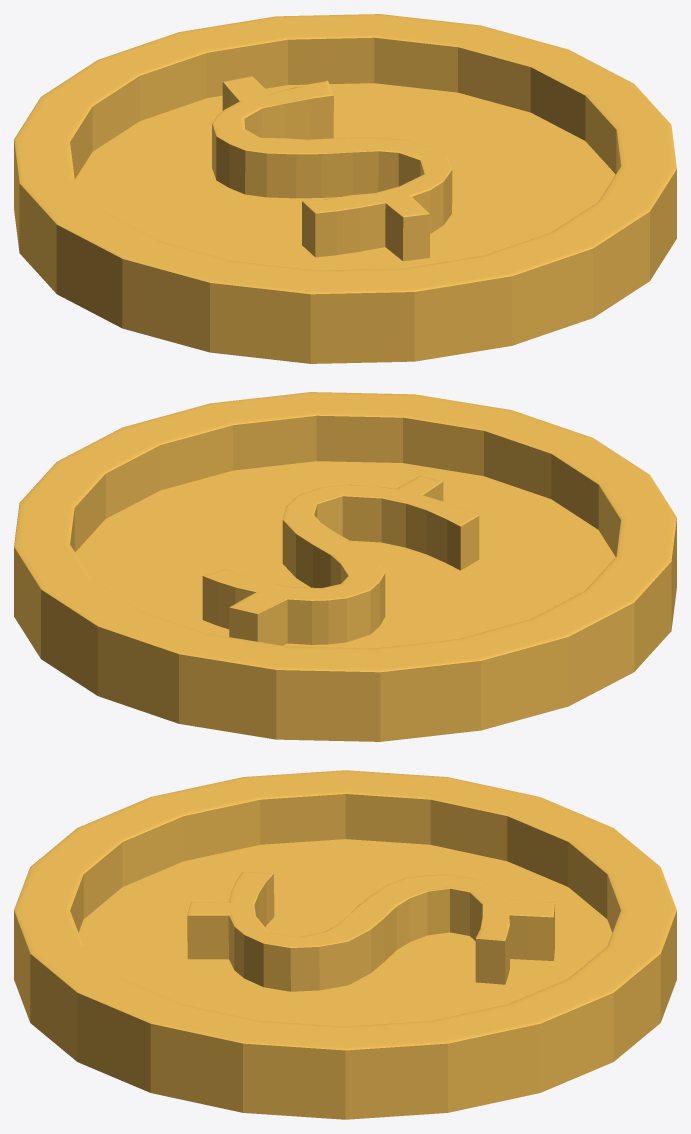
The model's file is coin.fbx.
3 views of the same model, one above another, from view 1: azimuth 30°, elevation 25°; view 2: azimuth 150°, elevation 25°; view 3: azimuth 270°, elevation 25° (orthographic).
Visible parts, largest first — view 1: Cylinder; view 2: Cylinder; view 3: Cylinder.
Part boxes in pixels (x1,y1,x2,y2): Cylinder: (14,14,676,363); Cylinder: (14,392,676,741); Cylinder: (14,770,676,1119).
Bounding box in the file's own units: 70.48 × 8.21 × 70.48.
